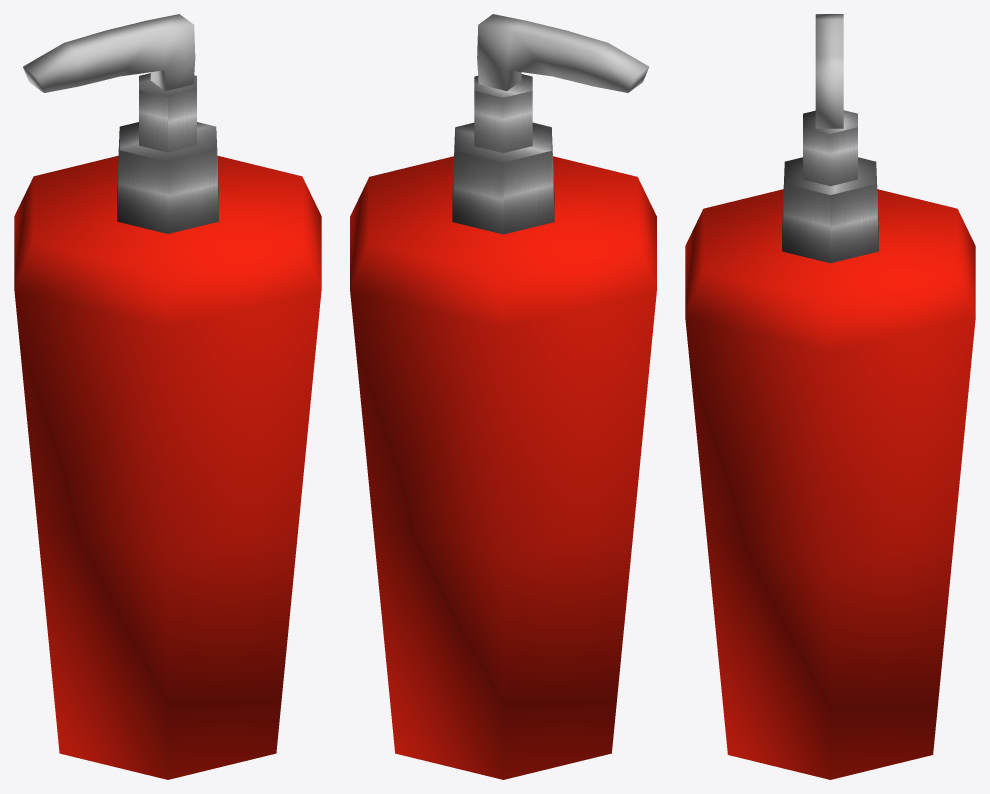
Rendered from Soap_Dispenser_D.FBX.
The picture shows the model from 3 angles, left to right: view 1: azimuth 30°, elevation 25°; view 2: azimuth 150°, elevation 25°; view 3: azimuth 270°, elevation 25°; orthographic projection. The views are drawn at different scales.
Parts seen in each view (by area): view 1: Soap_Dispenser; view 2: Soap_Dispenser; view 3: Soap_Dispenser.
Part boxes in pixels (left/top/right/bottom): Soap_Dispenser: left=14, top=14, right=321, bottom=779; Soap_Dispenser: left=350, top=14, right=656, bottom=779; Soap_Dispenser: left=685, top=14, right=975, bottom=779.
Bounding box in the file's own units: 18.48 × 40.55 × 16.01.
